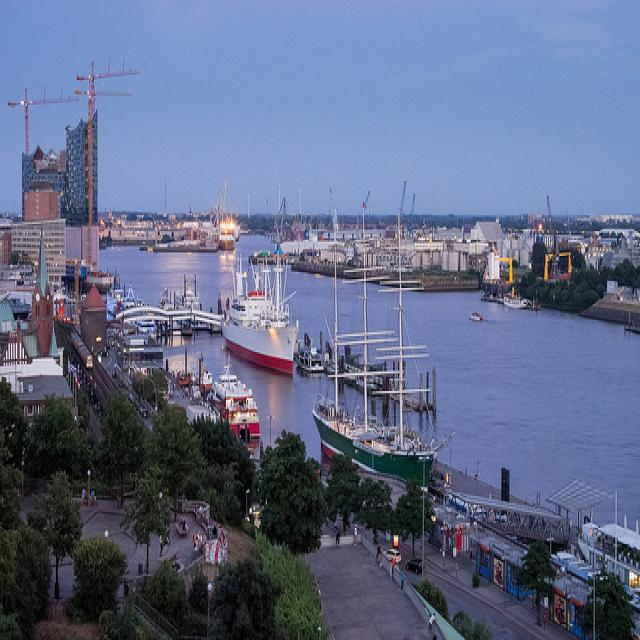Vehicle: (406, 556, 426, 575), (384, 548, 402, 564), (139, 406, 148, 417), (128, 392, 135, 403)
